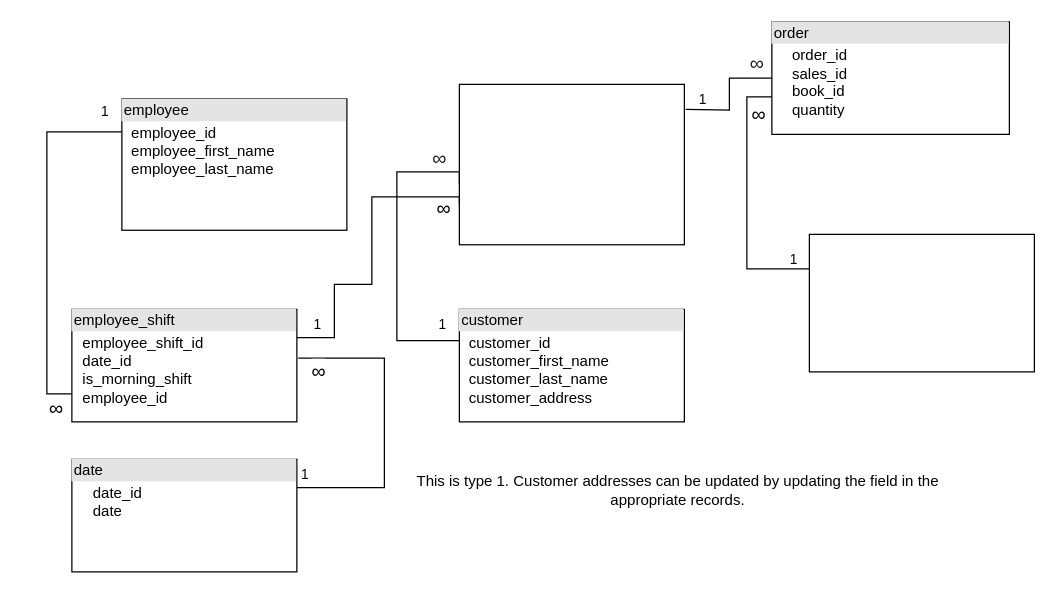
Image size: 1056x594. Some labels were removed from this diagram. Here are the shapes that lost their labels. From the top down, the centre of each, then its label:
At point (571, 164): "sales sales_id payment_type payment_still_owing customer_id employee_shift_id".
At point (921, 302): "book book_id title author_first_name author_last_name publisher price".
